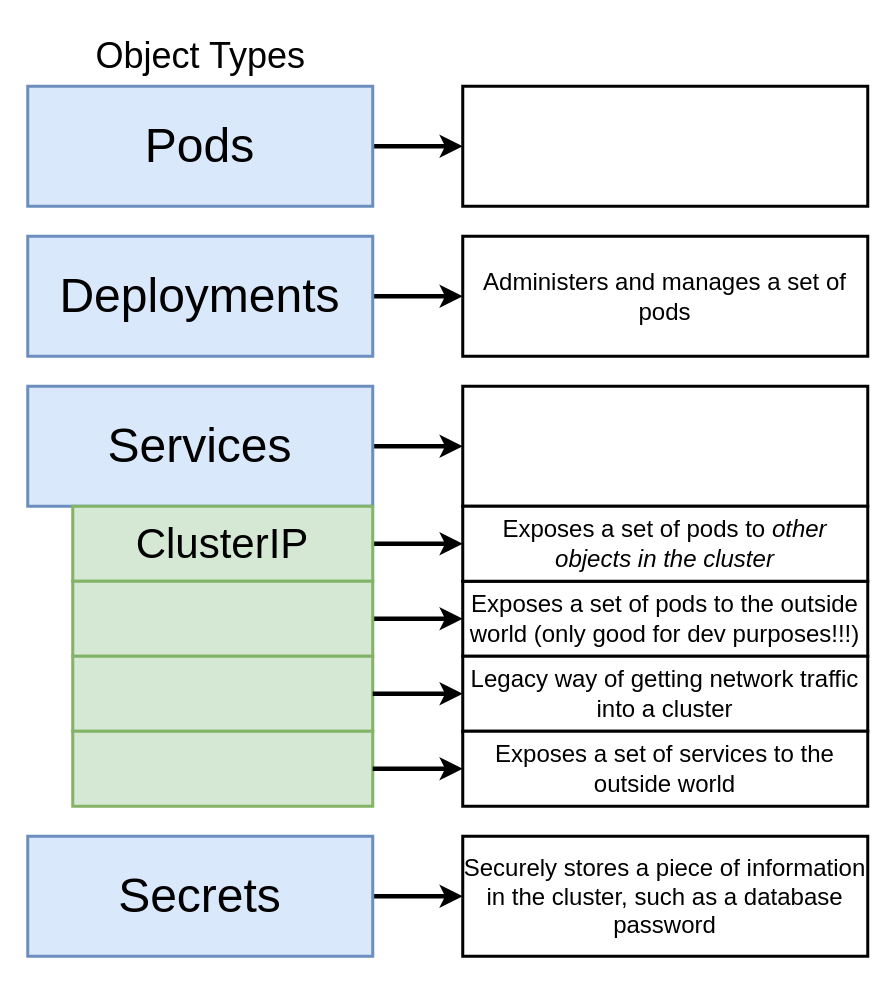
Image size: 894x983. Some labels were removed from this diagram. Each missing label, with the box of its shape:
Ingress: (70, 729, 374, 807)
LoadBalancer: (70, 654, 374, 732)
NodePort: (70, 579, 374, 657)
Runs one or more closely related containers: (460, 84, 868, 207)
Sets up networking in a Kubernetes Cluster: (460, 384, 868, 507)
